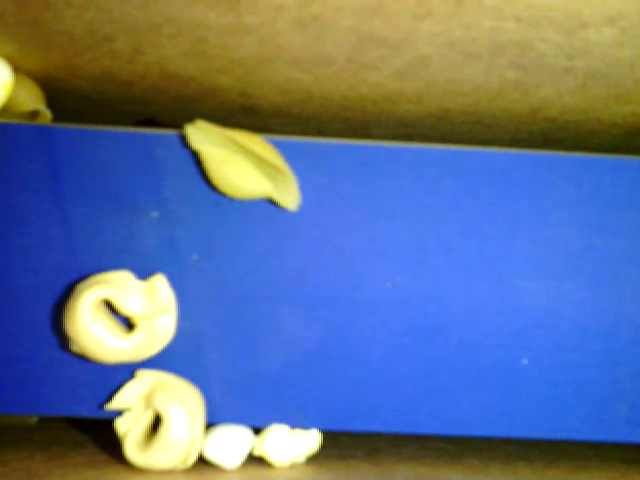shell: (178, 111, 305, 212), (5, 72, 54, 127)
tortellini: (99, 366, 207, 473), (63, 270, 180, 364)
